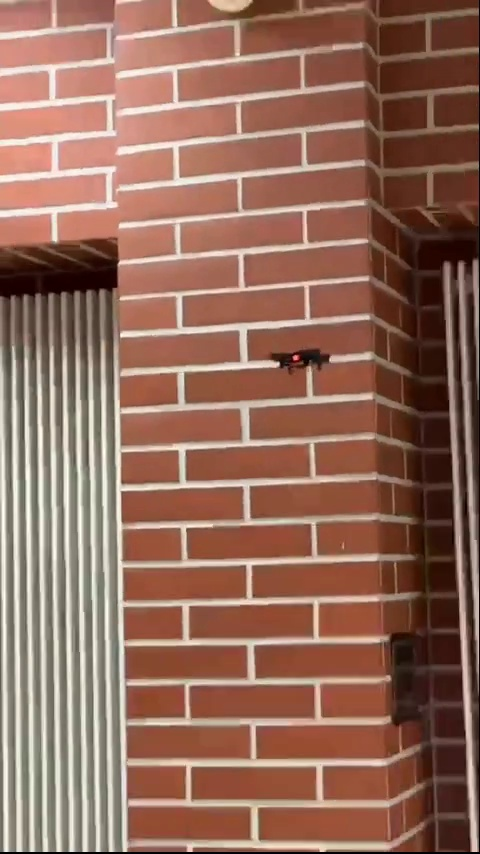drone: (268, 344, 335, 374)
